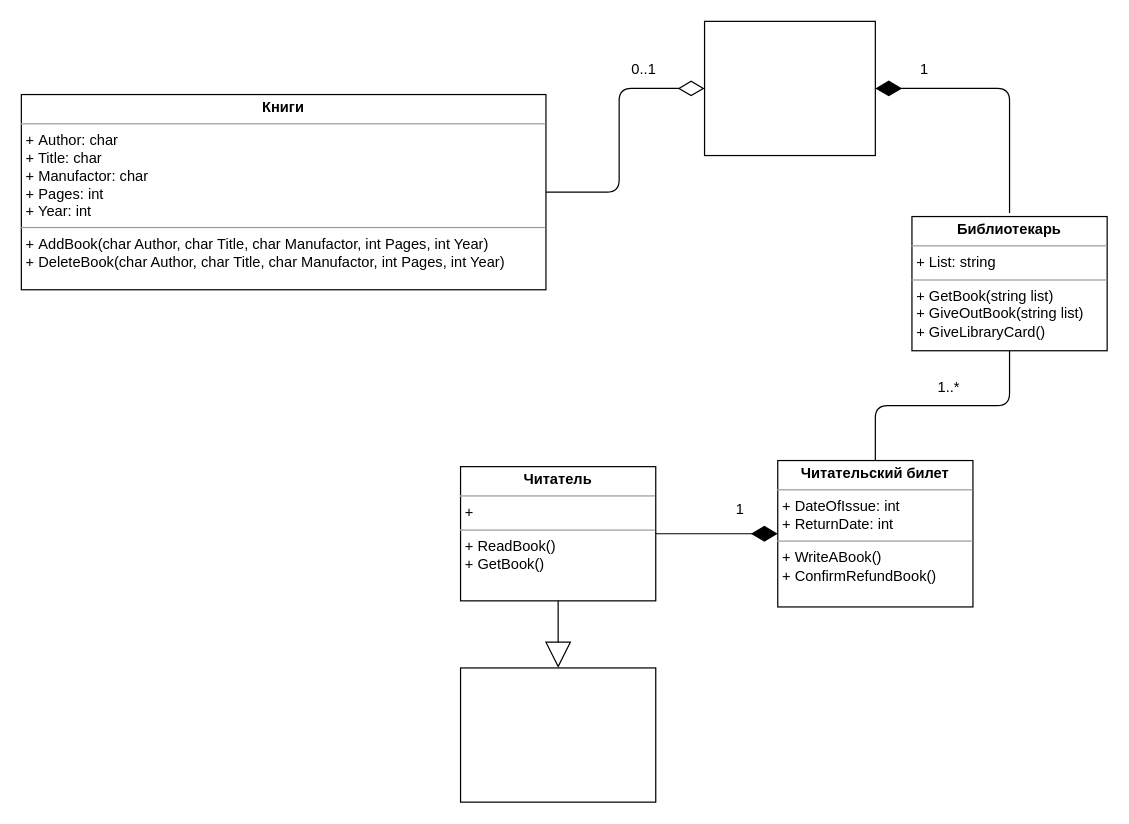
This 1129x824 diagram has some shape labels left out. The shapes that lost their labels are listed below. From the top down, each one's centre as x and y in pixels, then its label:
At (x=789, y=88): "Библиотека + name: string + status: bool + Status (bool status)".
At (x=557, y=734): "Посетитель + Name: string + PhoneNumber: int + GetLibraryCard()".
